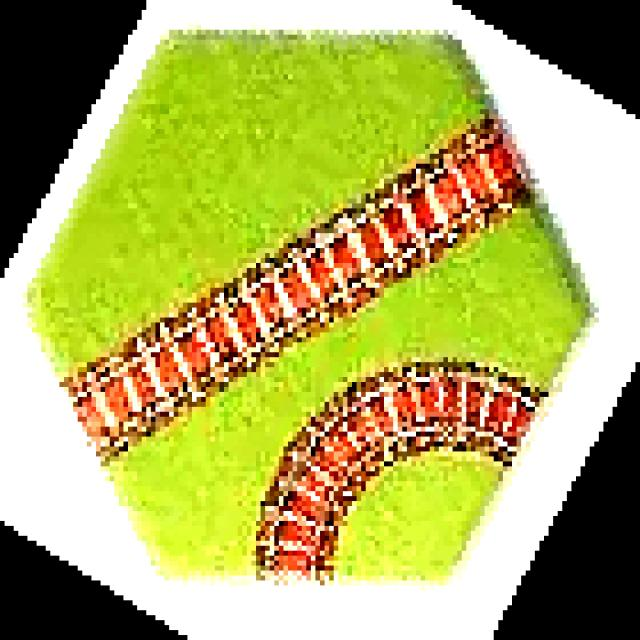4_1: (28, 30, 594, 585)
